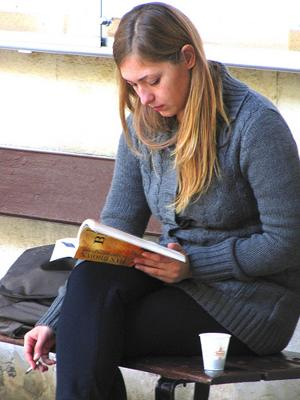person: (25, 3, 300, 400)
